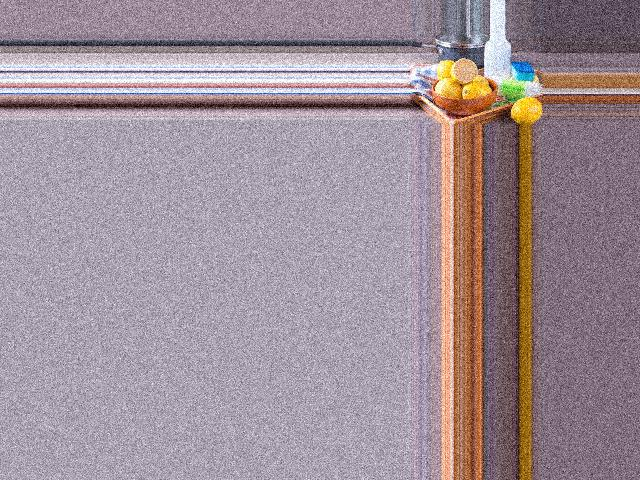lemon: (509, 97, 542, 124)
